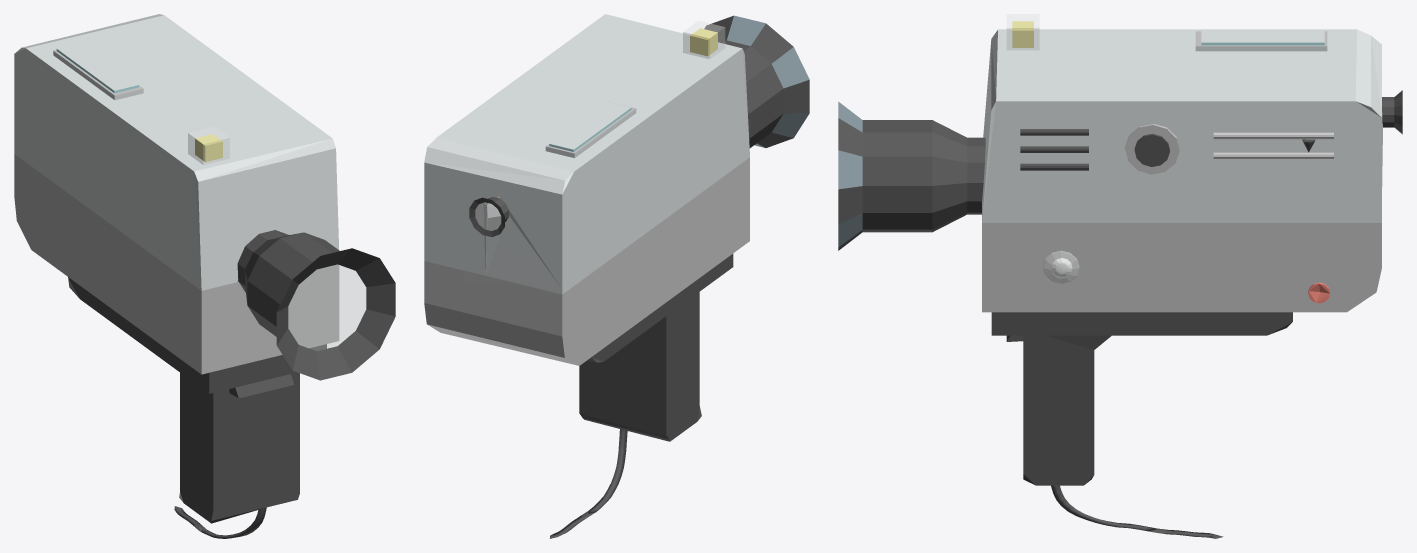
The model's file is photoCam.glb.
3 views of the same model, side by side, from view 1: azimuth 30°, elevation 25°; view 2: azimuth 150°, elevation 25°; view 3: azimuth 270°, elevation 25° (orthographic). The views are drawn at different scales.
Parts seen in each view (by area): view 1: model.000; view 2: model.000; view 3: model.000.
Boxes of the visible parts, x1=… form: model.000: x1=14, y1=14, x2=395, y2=538; model.000: x1=424, y1=14, x2=809, y2=538; model.000: x1=838, y1=14, x2=1402, y2=538.
Size of the model in its own units: 0.6495 by 1.95 by 2.06.
